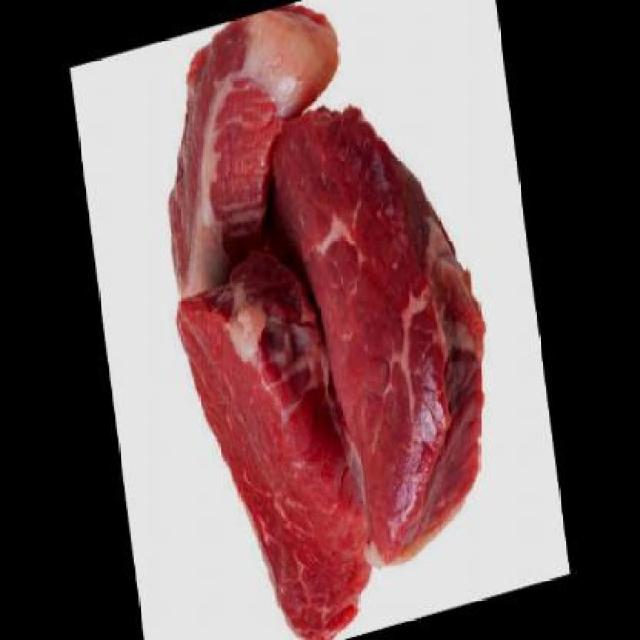beef: (250, 79, 514, 578), (159, 227, 390, 640)
